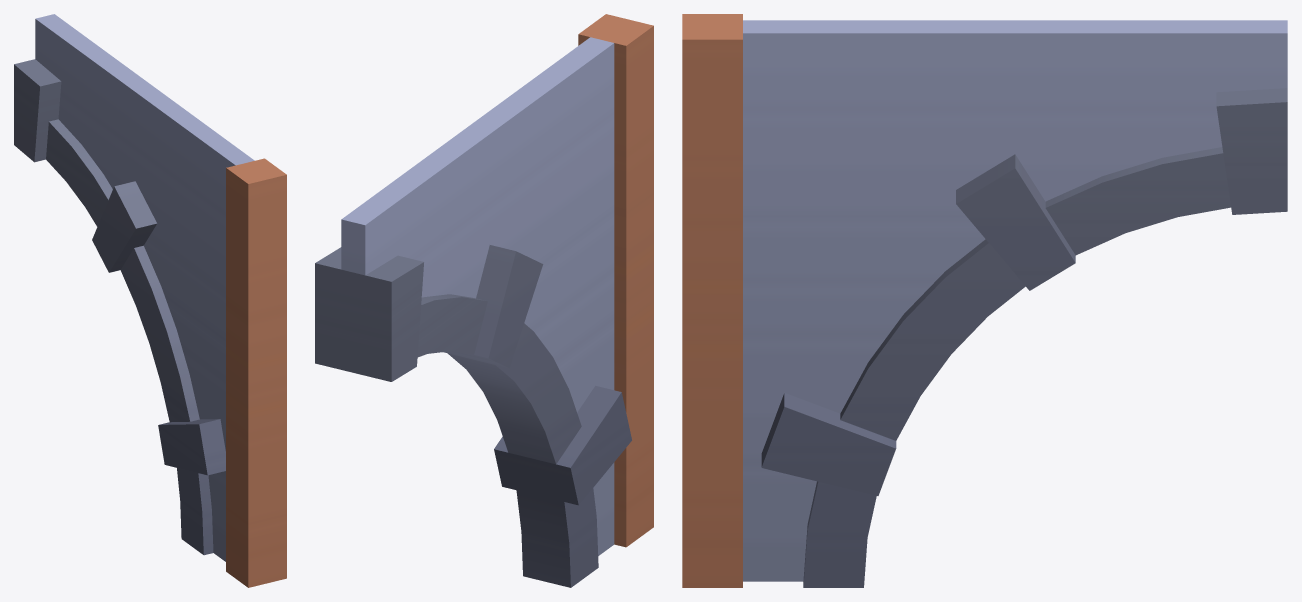
Rendered from wall-arch-top-detail.fbx.
3 views of the same model, side by side, from view 1: azimuth 30°, elevation 25°; view 2: azimuth 150°, elevation 25°; view 3: azimuth 270°, elevation 25° (orthographic). The views are drawn at different scales.
Visible parts, largest first — view 1: wall-arch-top-detail; view 2: wall-arch-top-detail; view 3: wall-arch-top-detail.
Part boxes in pixels (bbox=[...]): wall-arch-top-detail: bbox=[14, 14, 286, 587]; wall-arch-top-detail: bbox=[315, 14, 653, 587]; wall-arch-top-detail: bbox=[682, 14, 1287, 587].
Size of the model in its own units: 16 by 100 by 100.
1 material, 1 textured.
